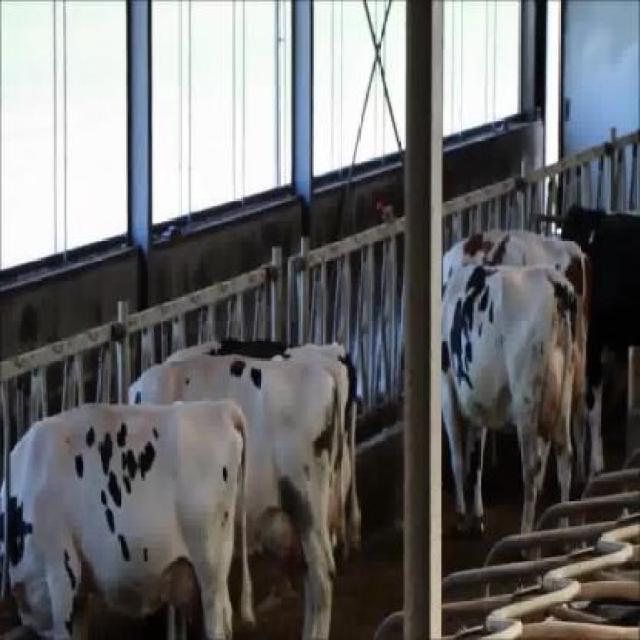Cow: (128, 352, 344, 638), (2, 397, 255, 638), (440, 262, 575, 558)
